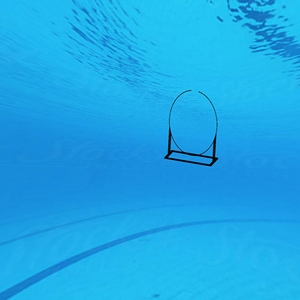circle: (162, 87, 223, 173)
